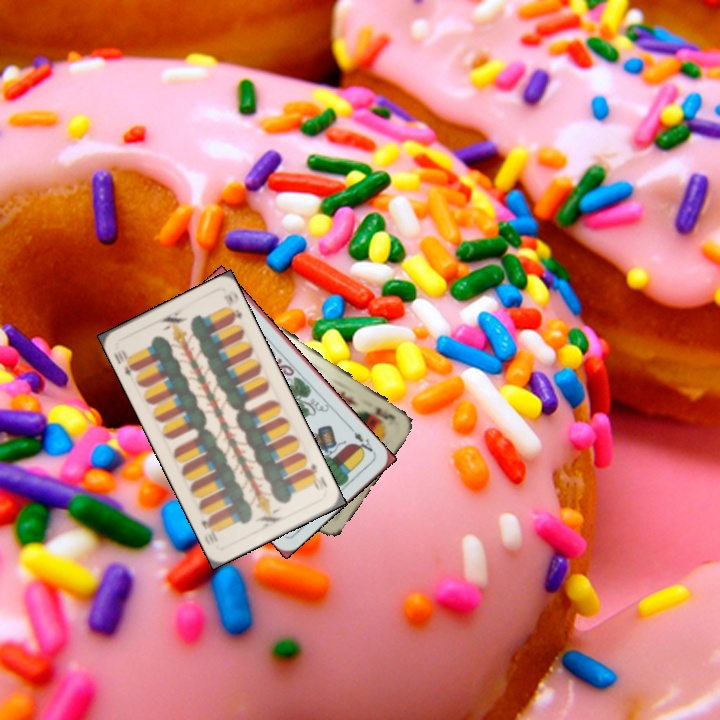E10: (302, 460, 330, 492), (115, 346, 140, 379)
EA: (346, 424, 378, 458)
SK: (370, 402, 398, 421)
